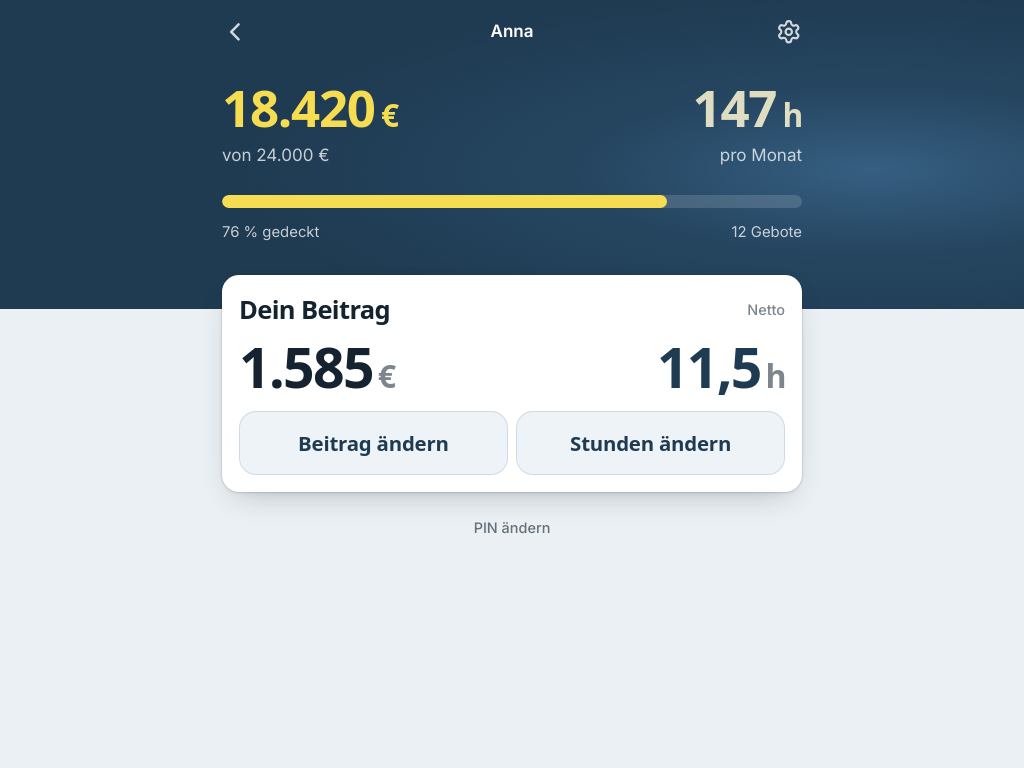
it: Esc closes the sheet without saving
Click the button "Beitrag ändern" at (373,443), box [239,411,508,475]
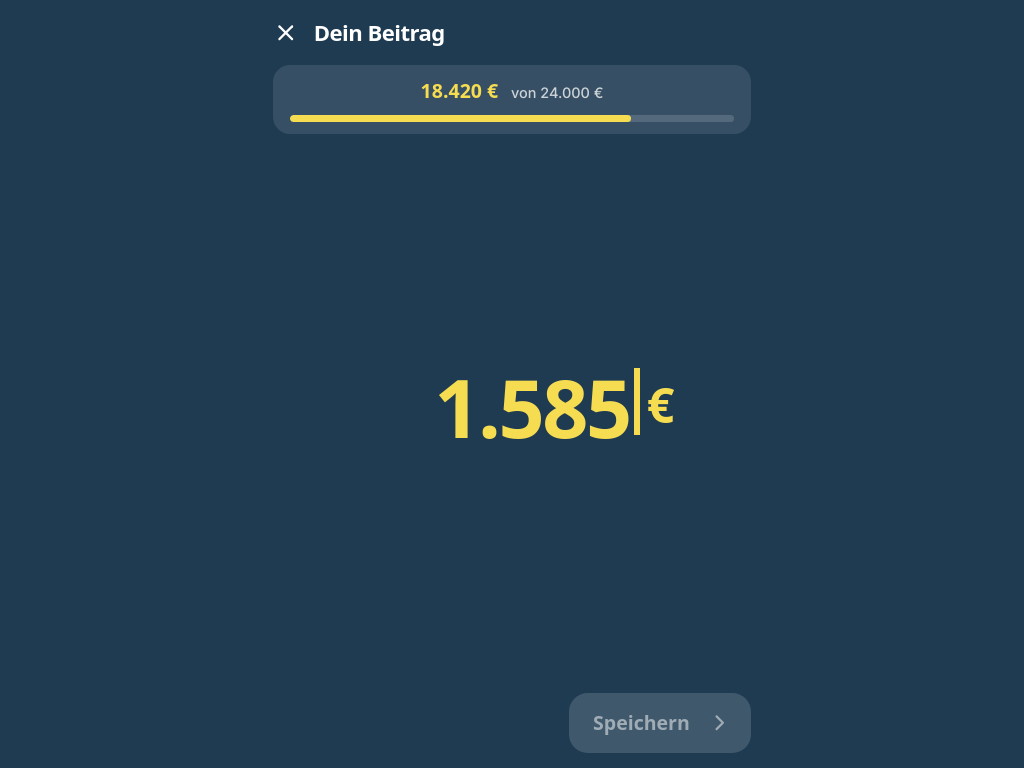
Press 5 in the field named "Dein Beitrag in Euro", box [352,352,630,462]
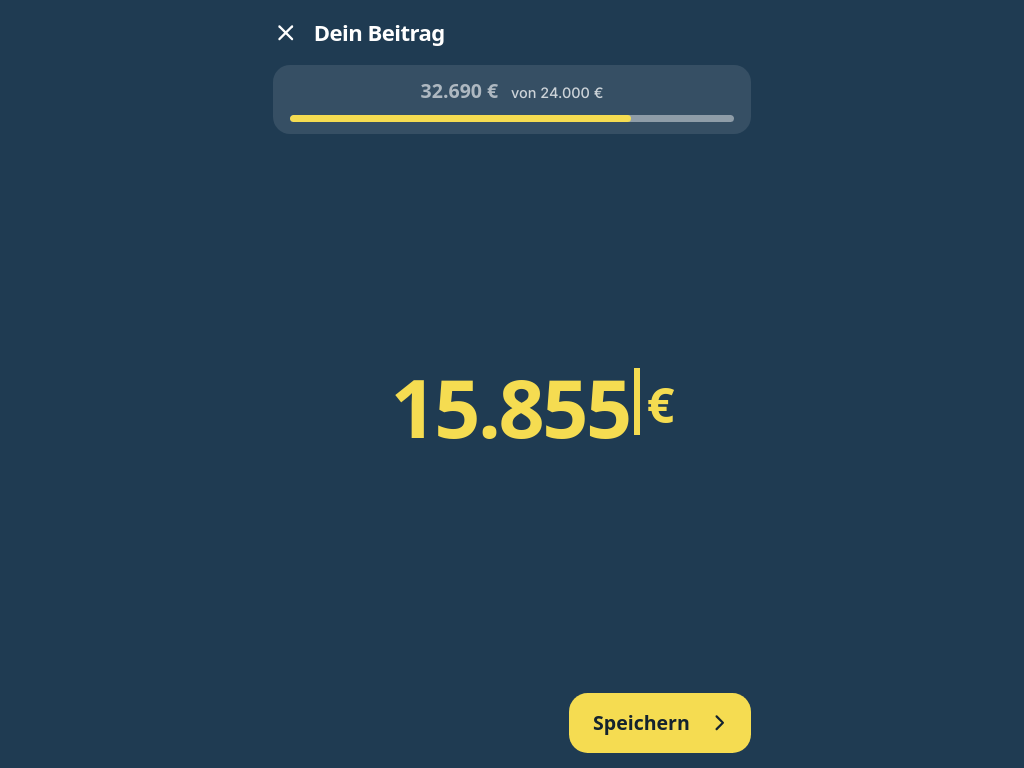
Press Escape
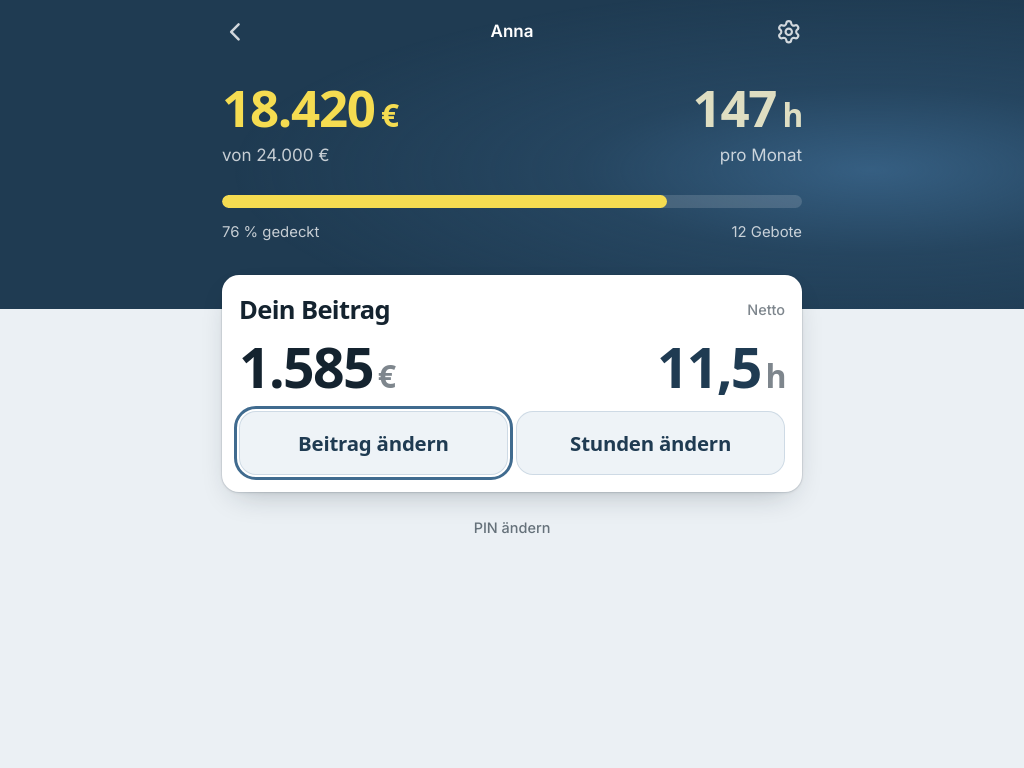
Expected: the text with test id "own-amount" reads "1.585", [239,329,373,404]
Expected: the dialog is gone
